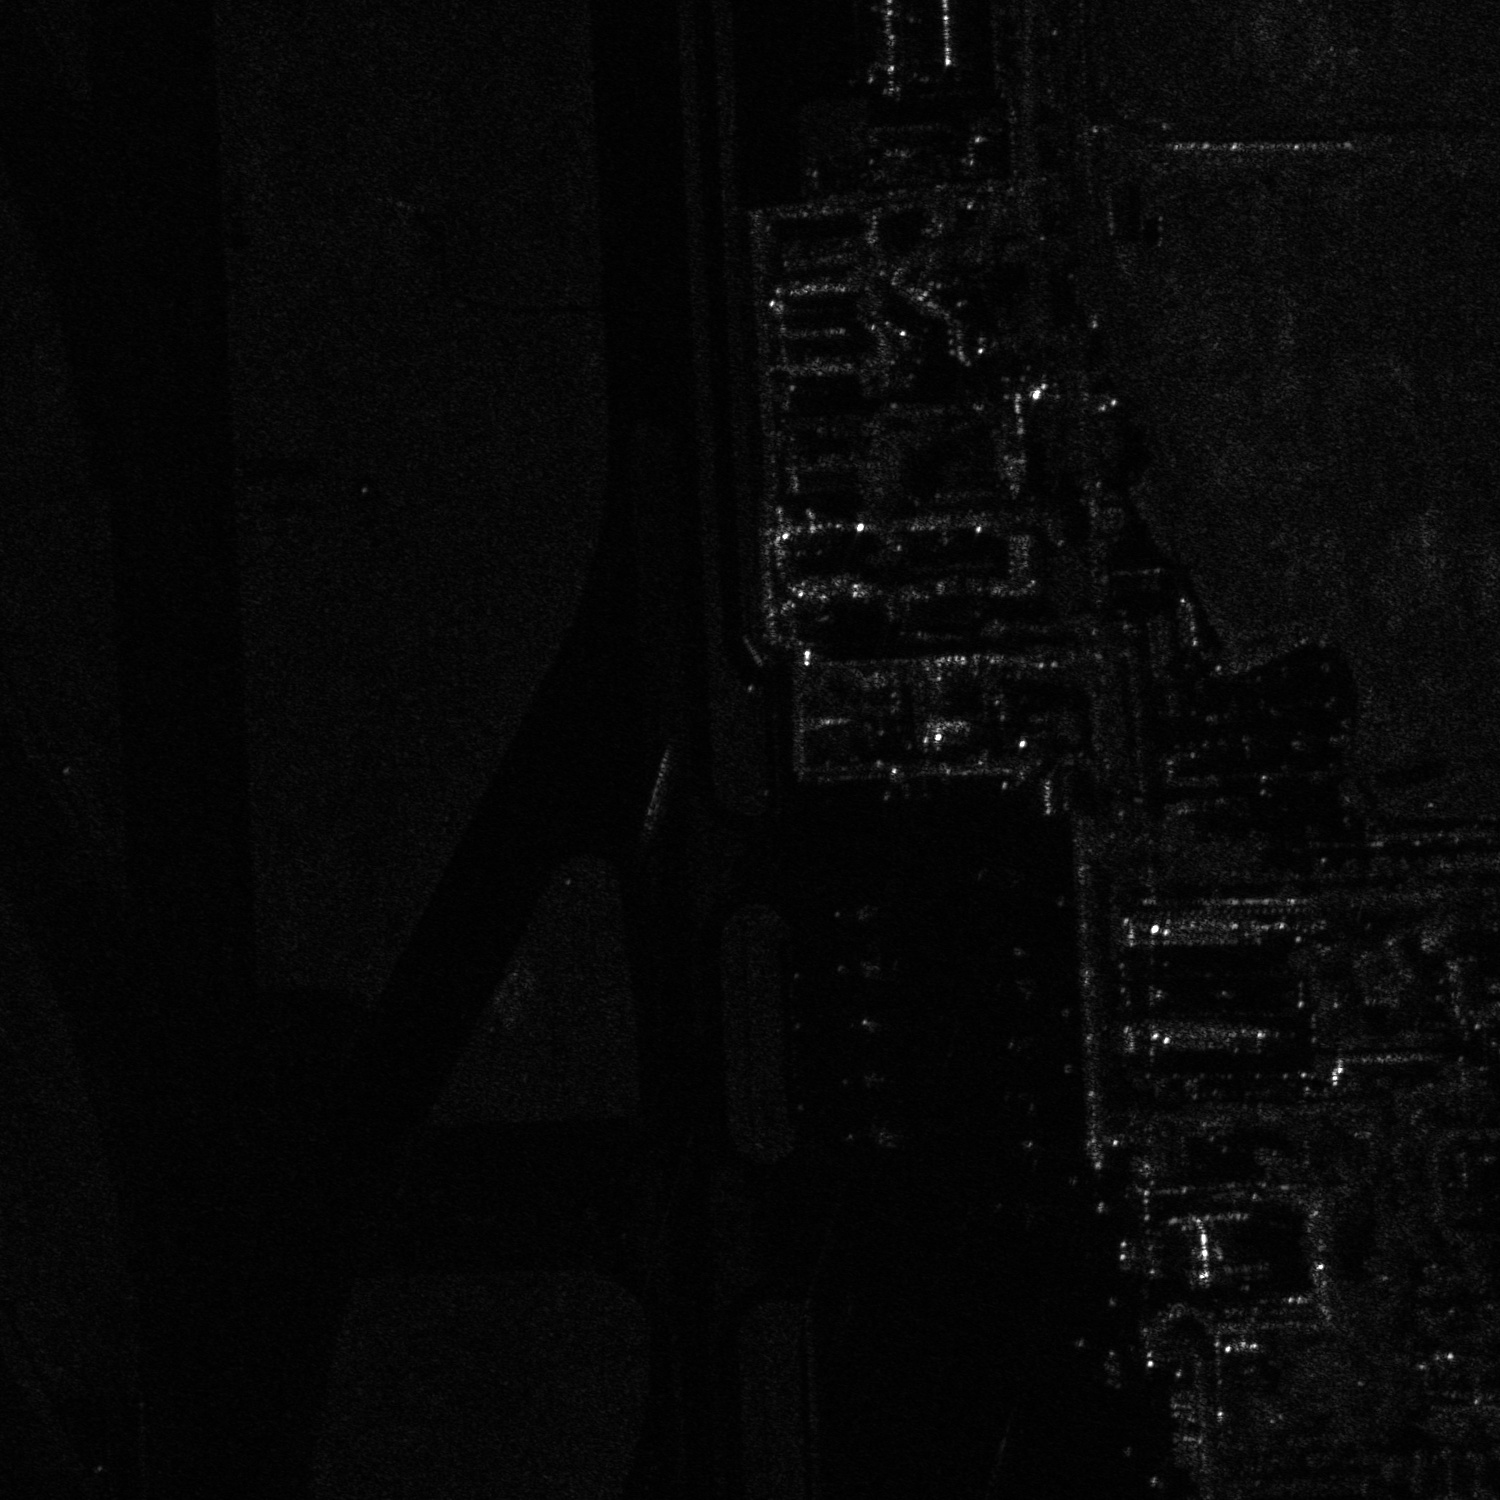ARJ21: (832, 949, 890, 986), (848, 1004, 898, 1041)
other: (841, 1114, 904, 1152), (835, 1059, 896, 1099), (832, 891, 886, 930)
